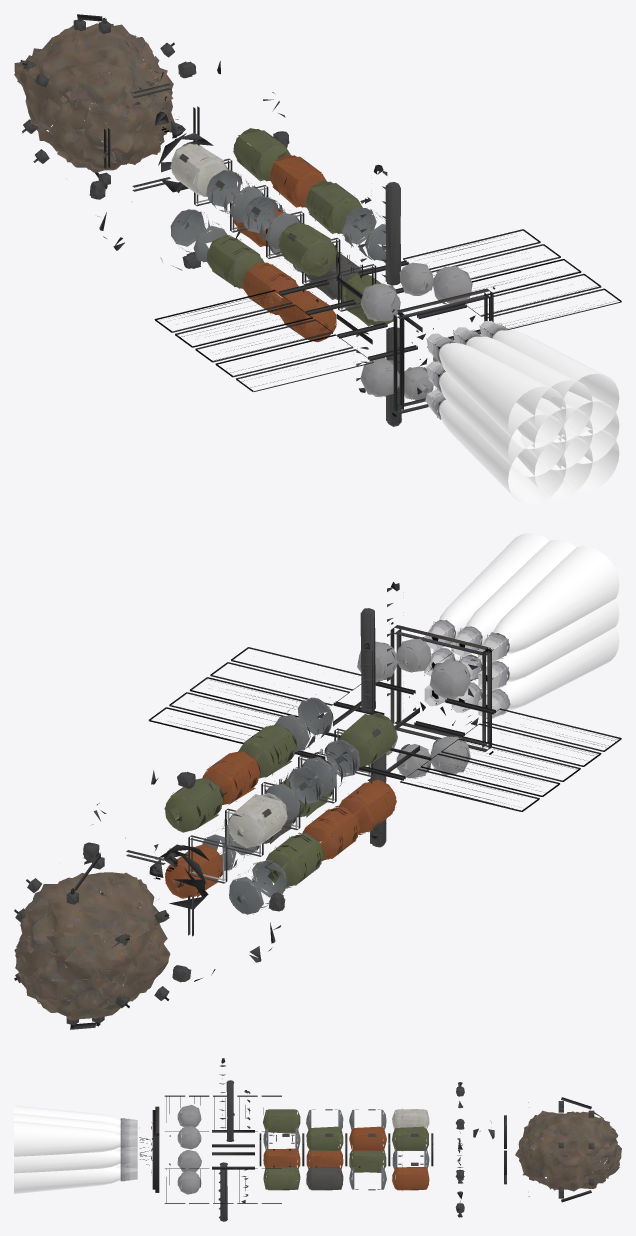
File: Minotaur_LOD2.glb
3 renders of one model, top to bottom at view 1: azimuth 30°, elevation 25°; view 2: azimuth 150°, elevation 25°; view 3: azimuth 270°, elevation 25°, orthographic. The views are drawn at different scales.
Visible parts, largest first — view 1: detail, plume, hull; view 2: detail, plume, hull; view 3: detail, plume, hull.
Part boxes in pixels (x1,y1,x2,y2): detail: (14, 19, 507, 426); plume: (439, 330, 619, 504); hull: (20, 14, 621, 422); detail: (14, 608, 510, 1025); plume: (439, 533, 619, 709); hull: (14, 582, 621, 1029); detail: (120, 1080, 621, 1221); plume: (14, 1105, 120, 1193); hull: (139, 1058, 602, 1218).
Bounding box in the file's own units: 474 × 326 × 1131.
6 materials, 4 textured.
